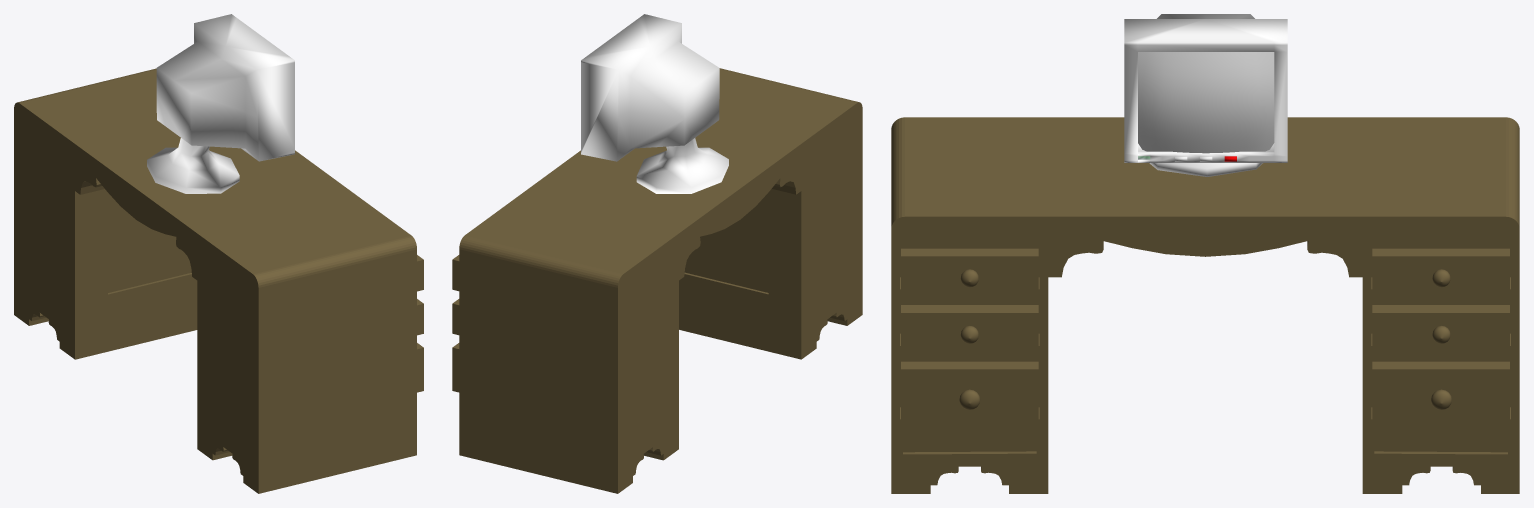
Rendered from computer_desk.glb.
3 views of the same model, side by side, from view 1: azimuth 30°, elevation 25°; view 2: azimuth 150°, elevation 25°; view 3: azimuth 270°, elevation 25° (orthographic). The views are drawn at different scales.
Visible parts, largest first — view 1: Plane.002, Cube.007; view 2: Plane.002, Cube.007; view 3: Plane.002, Cube.008, Cube.007.
Part boxes in pixels (box(x1,y1,x2,y2)): Plane.002: box(14, 68, 423, 493); Cube.007: box(147, 14, 294, 193); Plane.002: box(452, 68, 862, 493); Cube.007: box(581, 14, 728, 193); Plane.002: box(891, 117, 1519, 493); Cube.008: box(1138, 52, 1274, 153); Cube.007: box(1124, 14, 1287, 176).
Size of the model in its own units: 3.51 by 6.28 by 8.29.
